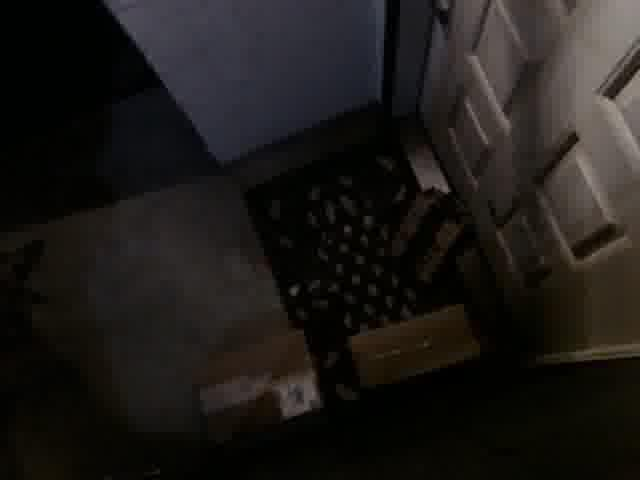box: (187, 329, 325, 443), (347, 303, 485, 392)
